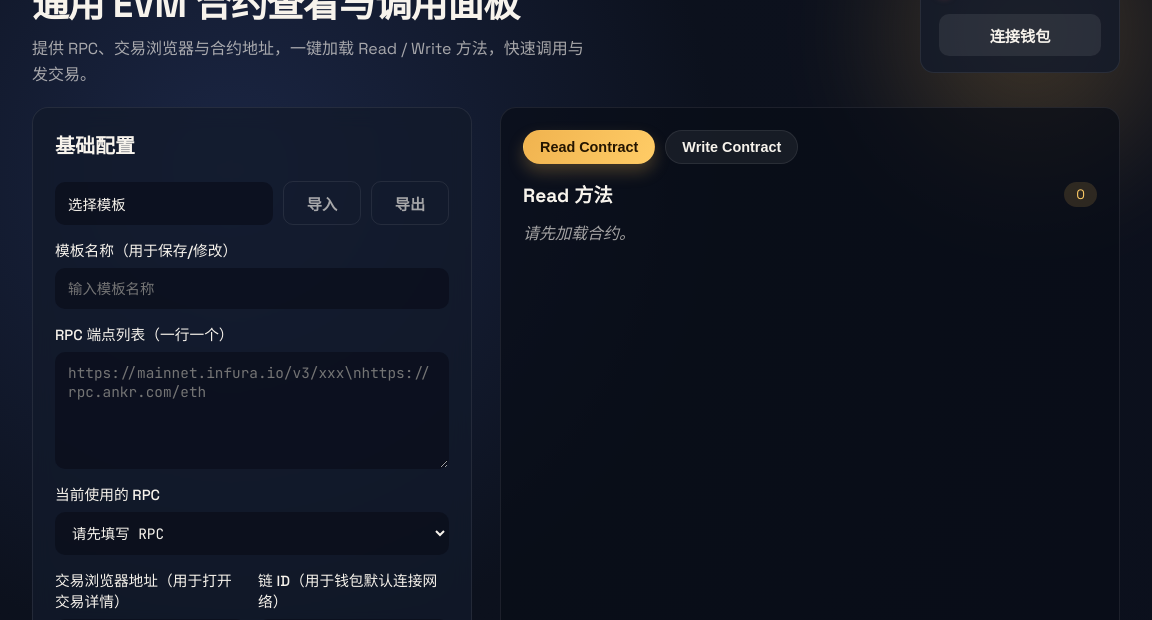
Test: App contract ABI loading › renders implementation methods when the entered proxy itself is unverified
In the text box labelled "RPC 端点列表（一行一个）": (252, 411) [55,352,449,469], type "https://ethereum-rpc.publicnode.com"
(page scrolled)
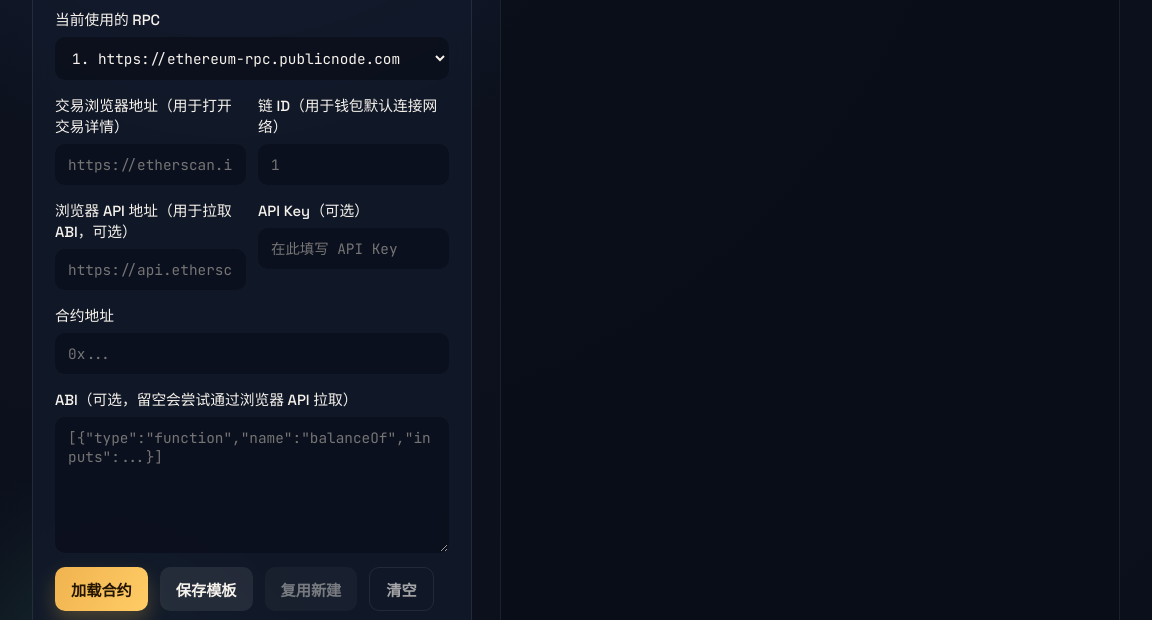
In the field labelled "浏览器 API 地址（用于拉取 ABI，可选）": (150, 270) [55,249,246,290], type "https://api.example.test/api"
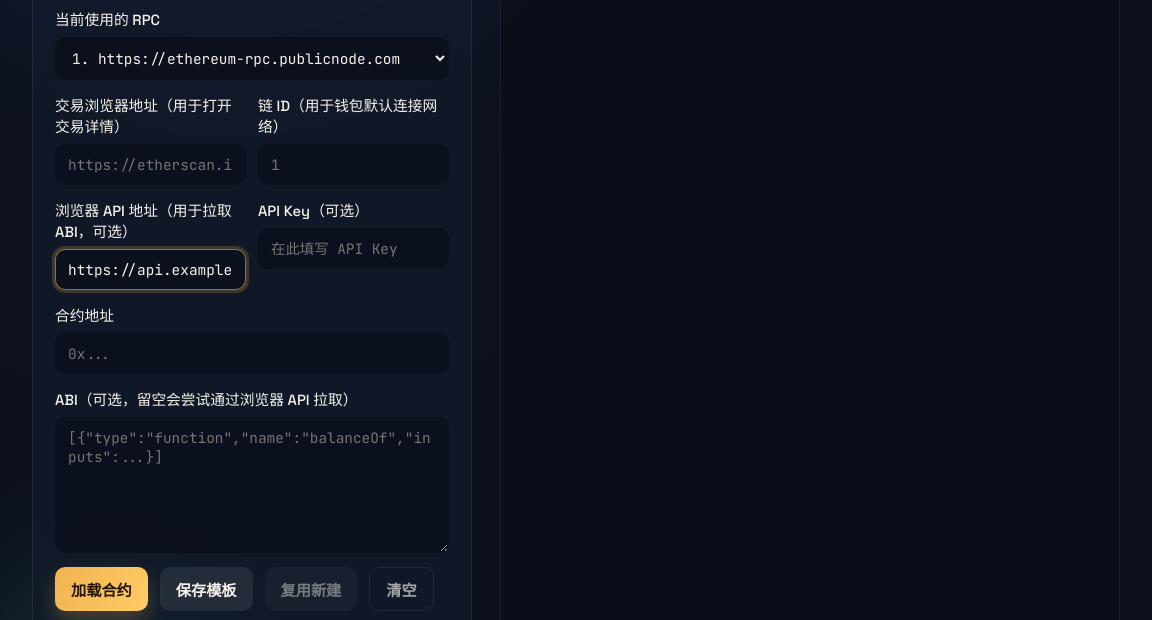
In the field labelled "合约地址": (252, 354) [55,333,449,374], type "0x1bbf25e71ec48b84d773809b4ba55b6f4be946fb"
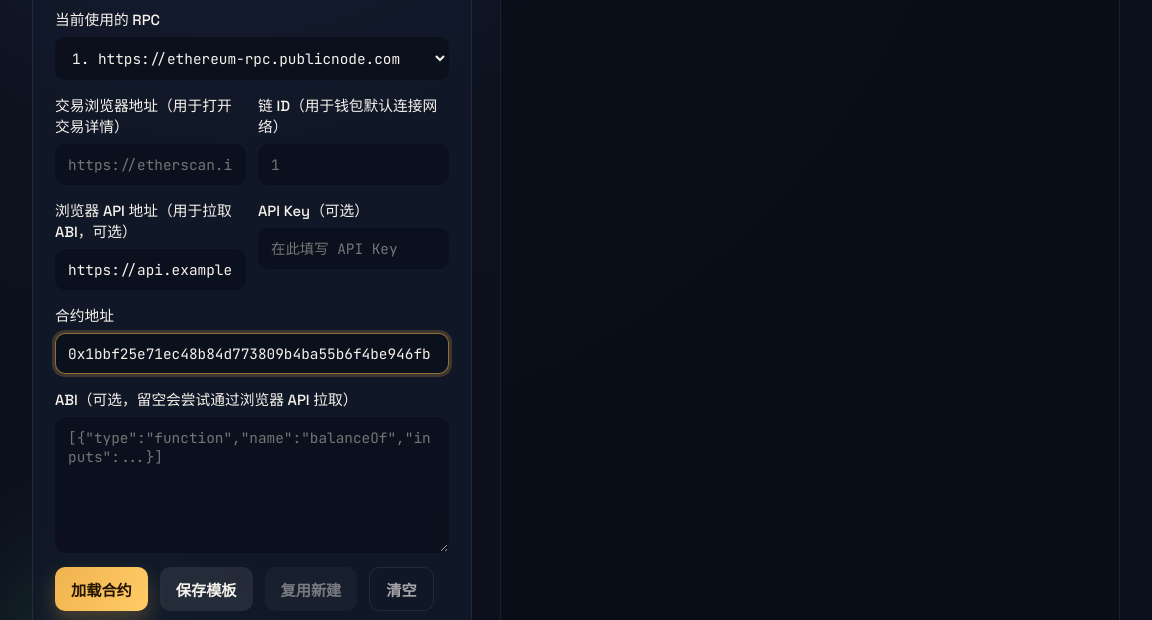
Click the button "加载合约": (101, 589) [55,567,148,611]
(page scrolled)
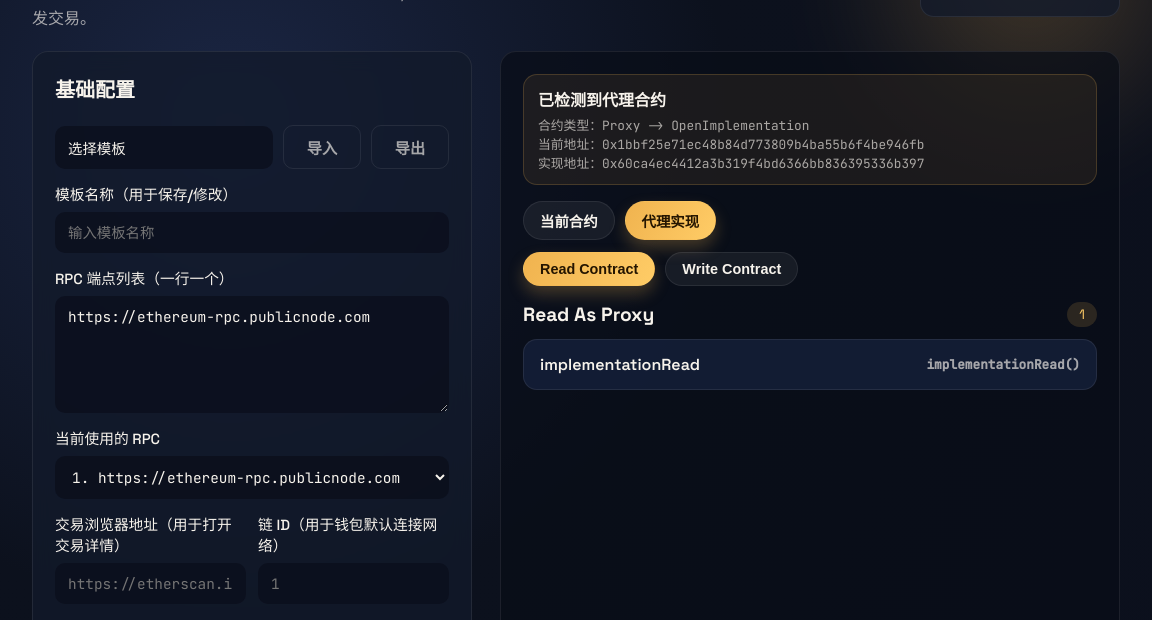
Check: the text "implementationRead" is shown, box [540,354,700,375]
Check: the heading "Read As Proxy" is shown, box [523,302,654,327]
Click the button "Write Contract": (732, 269) [665,252,798,286]
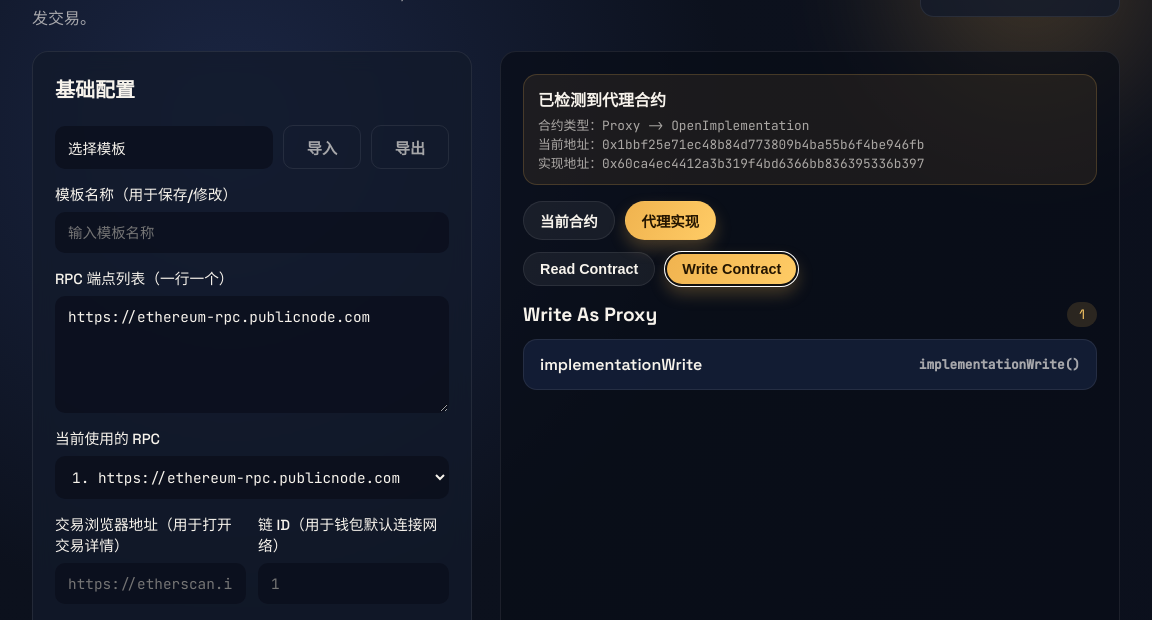
Check: the text "implementationWrite" is shown, box [540,354,702,375]
